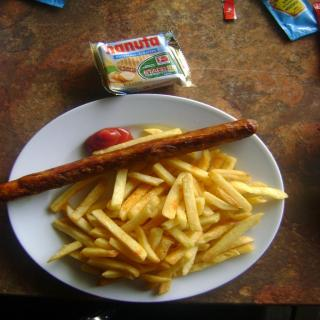French fries: (44, 124, 289, 298)
